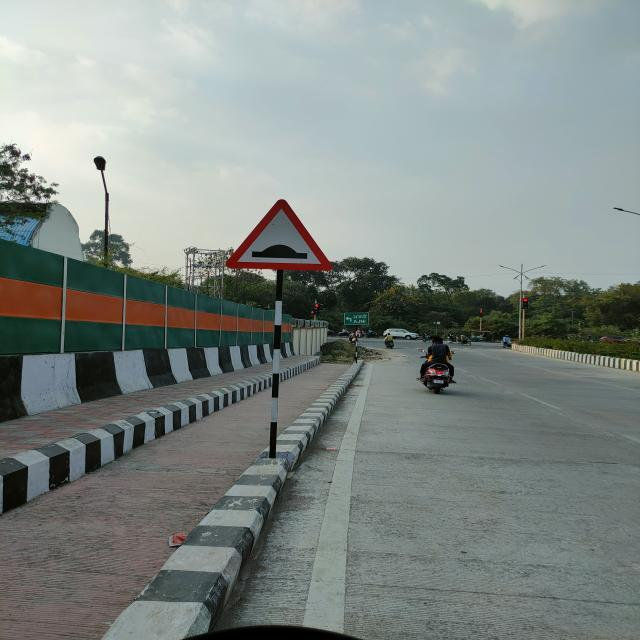hump or rough road: (225, 198, 335, 272)
